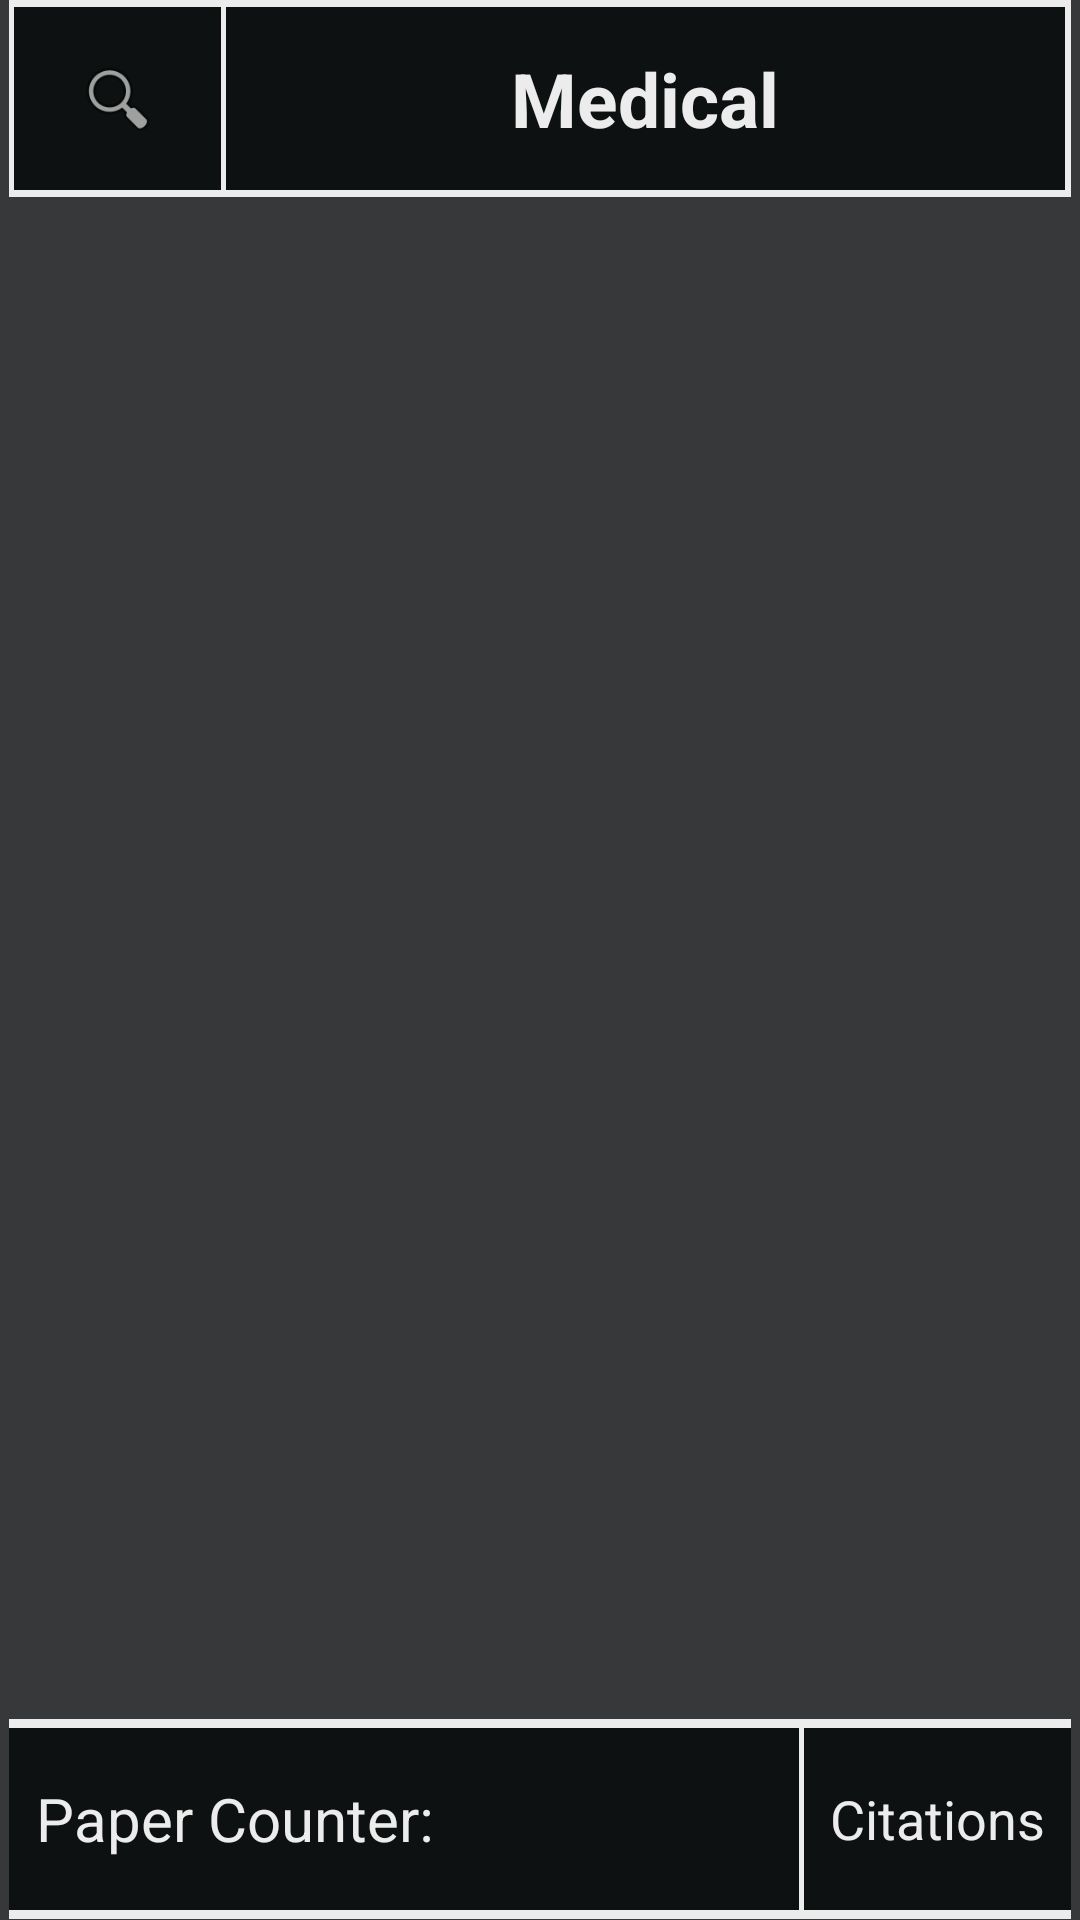

Where to tap for icons on this 1080 x 1920 app screen, as point (x, y):
search: point (117, 98)
